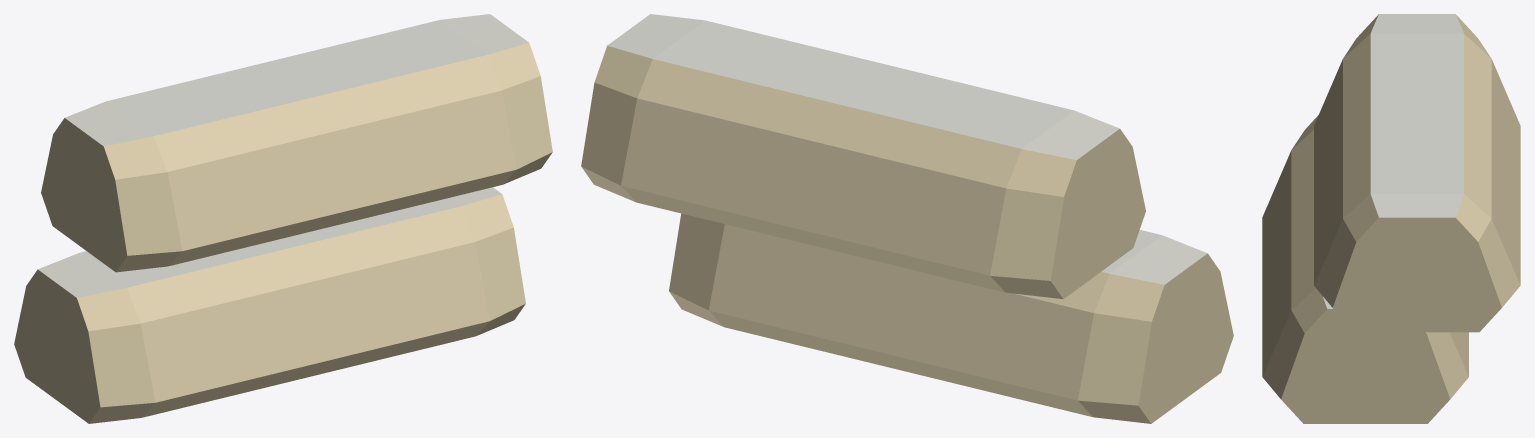
The model's file is hallowed_bar.glb.
3 renders of one model, left to right at view 1: azimuth 30°, elevation 25°; view 2: azimuth 150°, elevation 25°; view 3: azimuth 270°, elevation 25°, orthographic. The views are drawn at different scales.
Visible parts, largest first — view 1: hallowed_bar_v0; view 2: hallowed_bar_v0; view 3: hallowed_bar_v0.
Part boxes in pixels (x1,y1,x2,y2): hallowed_bar_v0: (14, 14, 552, 423); hallowed_bar_v0: (581, 14, 1233, 423); hallowed_bar_v0: (1262, 14, 1520, 423).
Size of the model in its own units: 0.315 by 0.15 by 0.15.
